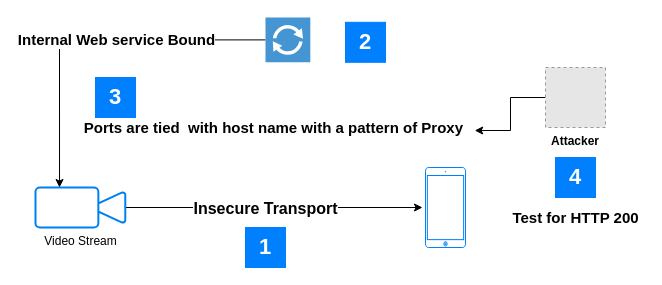
Some shapes in this 662 by 285 pixel diagram are drawn without their labels. Grey dashed boxes stand in for pictures. Each missing label, with the centre of its shape:
Proxy Connection: (287,39)
Remote Device: (445,207)
